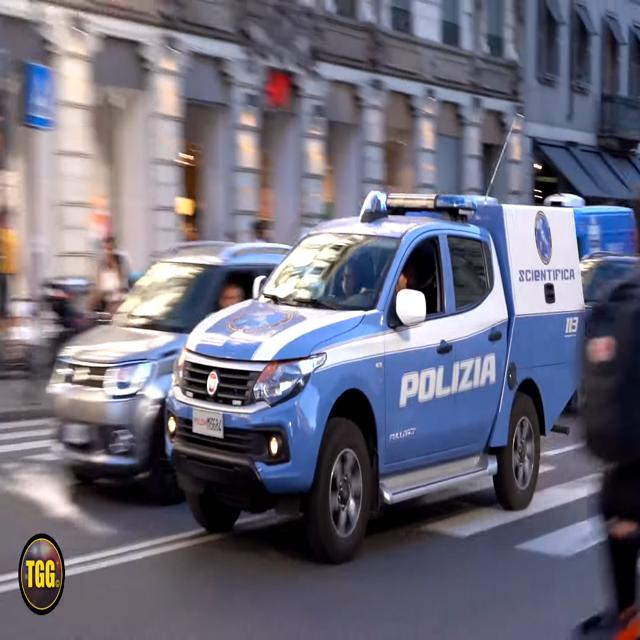emergency-vehicles: (154, 166, 596, 578)
